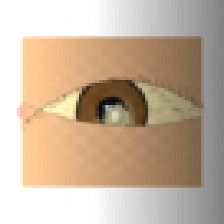corneal_ulcer: (96, 101, 137, 134)
